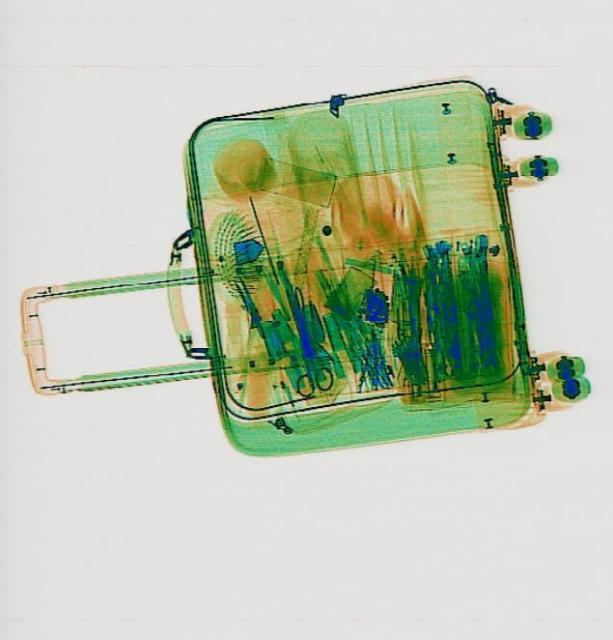Scissors: (273, 284, 336, 398)
